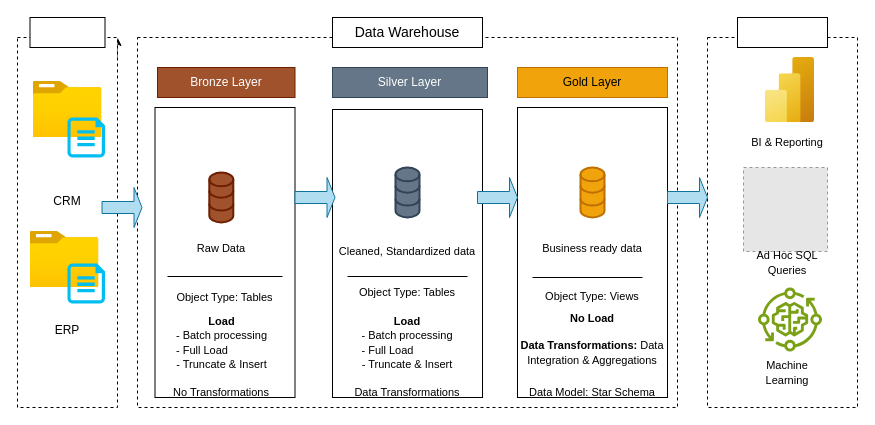
Some shapes in this 875 by 425 pixel diagram are drawn without their labels. Grey dashed boxes stand in for pictures. Each missing label, with the centre of its shape:
"Consumers" goes at (782,32).
"Source" goes at (67,32).
